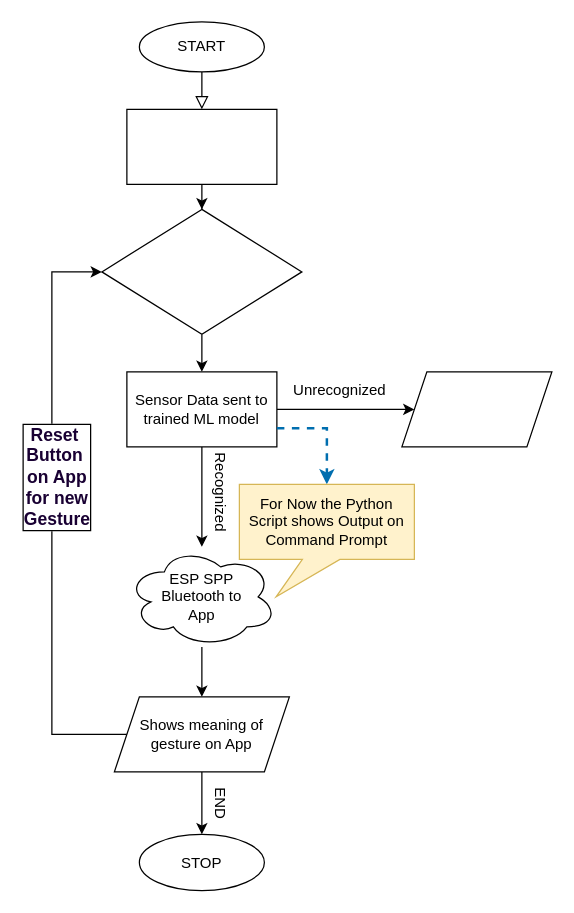
Some shapes in this 574 by 913 pixel diagram are drawn without their labels. The centre of each missing label's shape, as x and y in pixels:
"Invalid Gesture" goes at pixel 476 409.
"Make Hand Gesture" goes at pixel 201 271.
"Read Initial Stage" goes at pixel 201 146.
